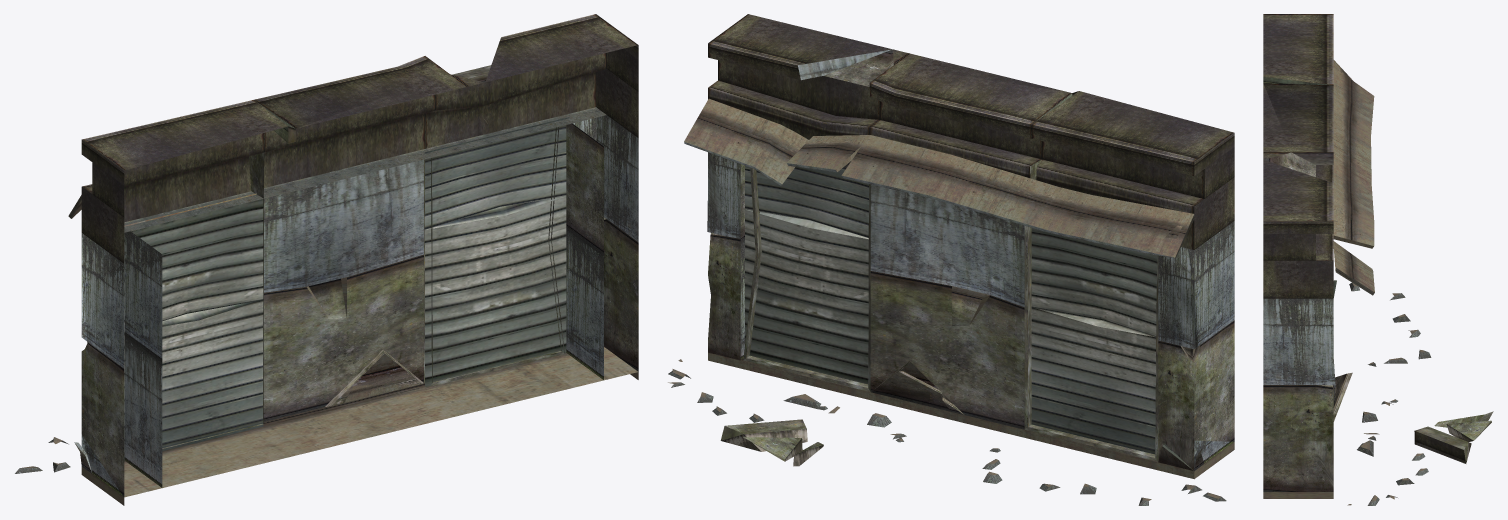
Rendered from Store_front_15_A.fbx.
The picture shows the model from 3 angles, left to right: view 1: azimuth 30°, elevation 25°; view 2: azimuth 150°, elevation 25°; view 3: azimuth 270°, elevation 25°; orthographic projection. The views are drawn at different scales.
Parts seen in each view (by area): view 1: Store_front_15_A; view 2: Store_front_15_A; view 3: Store_front_15_A.
Part boxes in pixels (<box>): Store_front_15_A: <box>15,14,638,505</box>; Store_front_15_A: <box>668,14,1234,505</box>; Store_front_15_A: <box>1263,14,1493,505</box>.
Bounding box in the file's own units: 797 × 449 × 328.
